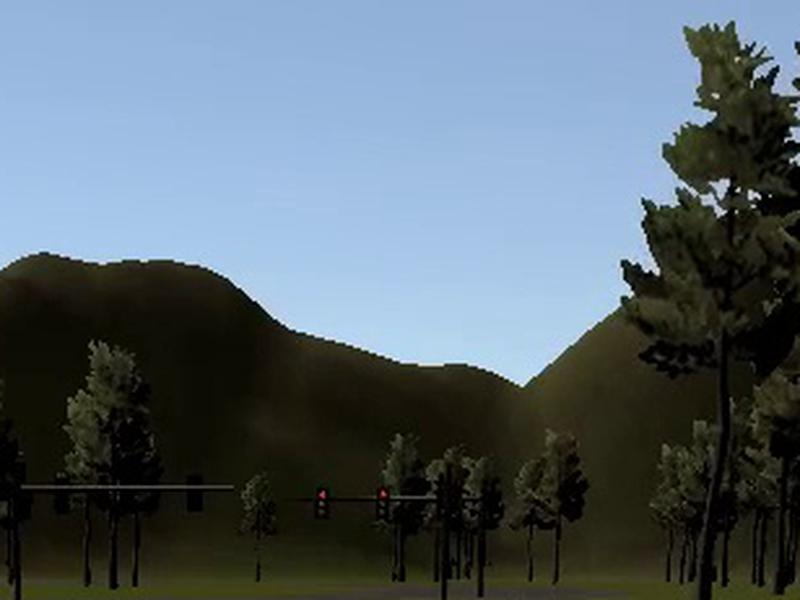Red: (313, 487, 329, 519), (375, 488, 389, 518)
